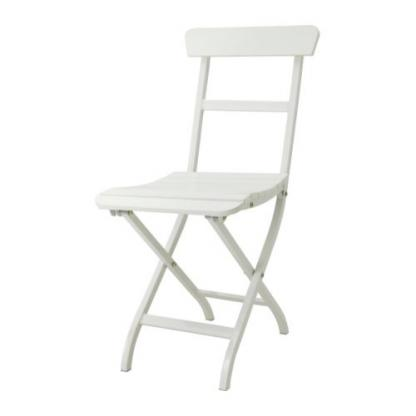Chair: (93, 21, 322, 394)
